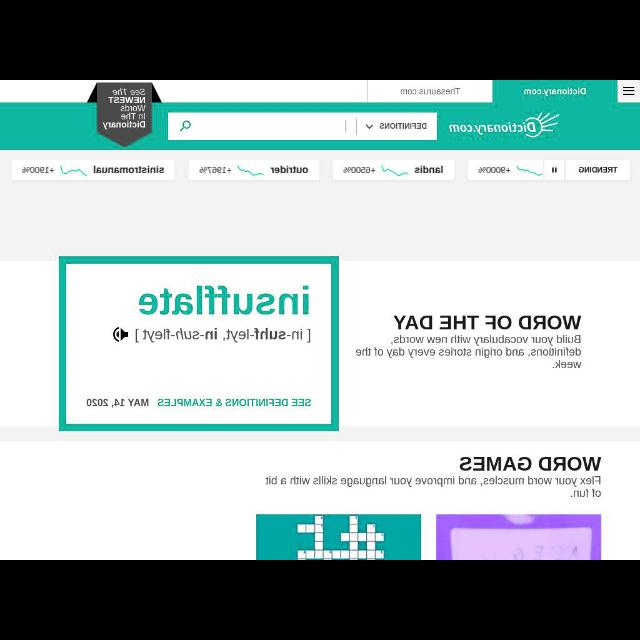button: (618, 81, 640, 102)
icon: (112, 328, 128, 342), (179, 120, 191, 132), (623, 86, 635, 95), (365, 124, 373, 130), (551, 167, 557, 173)
image: (256, 515, 422, 559), (436, 515, 602, 559), (86, 84, 160, 148), (449, 112, 561, 138), (514, 164, 544, 176), (381, 166, 409, 177), (237, 166, 265, 176), (60, 165, 88, 175)
input: (168, 112, 436, 140)
multitab: (367, 81, 617, 103)
panel: (1, 260, 640, 426), (2, 440, 640, 560), (11, 160, 176, 180), (468, 160, 630, 180), (188, 160, 320, 180), (333, 160, 455, 180)
spinner: (366, 122, 426, 130)
text: (356, 335, 580, 369), (266, 476, 600, 498), (138, 285, 310, 315), (392, 316, 582, 330), (134, 329, 310, 343), (460, 456, 602, 472), (86, 398, 310, 408), (524, 87, 586, 97), (94, 166, 164, 174), (400, 87, 460, 95), (379, 122, 426, 130), (270, 166, 308, 174), (342, 166, 376, 174), (199, 166, 231, 174), (22, 166, 54, 174), (478, 166, 510, 174), (578, 167, 618, 173), (414, 165, 444, 173)
toolbar: (1, 104, 640, 150)
